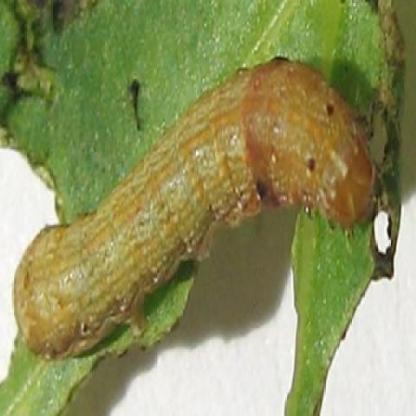armyworm: (14, 53, 383, 366)
